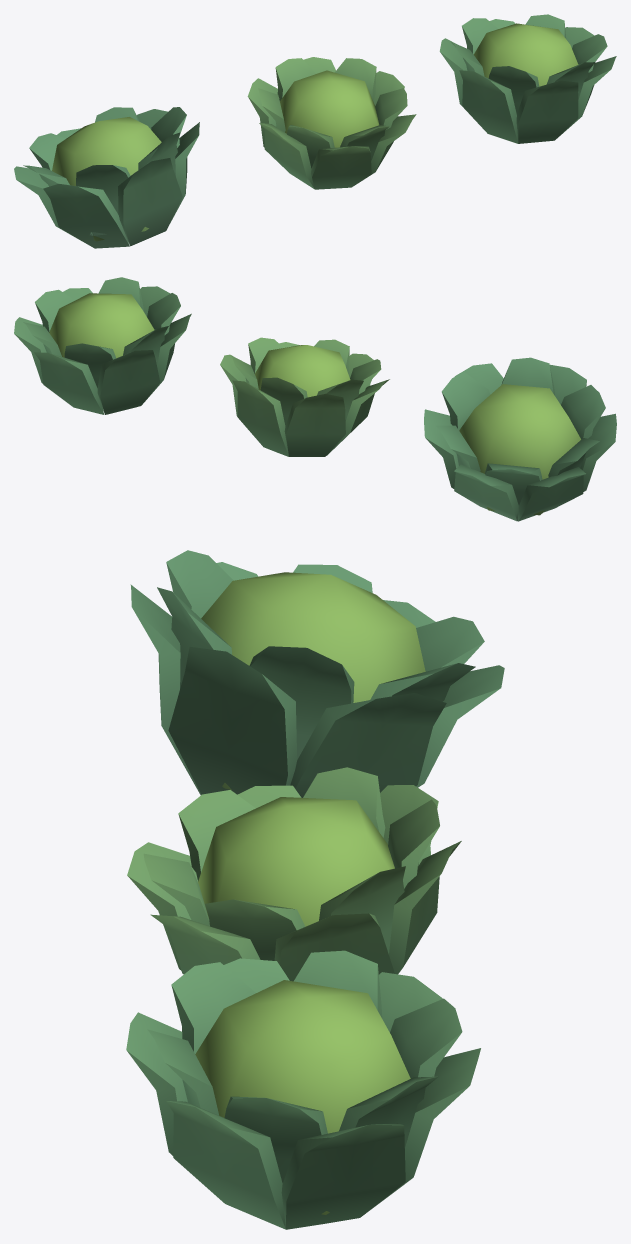
File: FarmCabbage_Line.fbx
3 views of the same model, one above another, from view 1: azimuth 30°, elevation 25°; view 2: azimuth 150°, elevation 25°; view 3: azimuth 270°, elevation 25° (orthographic). The views are drawn at different scales.
Visible parts, largest first — view 1: FarmCabbage_Line; view 2: FarmCabbage_Line; view 3: FarmCabbage_Line.
Part boxes in pixels (<box>): FarmCabbage_Line: <box>14,14,616,248</box>; FarmCabbage_Line: <box>14,277,616,521</box>; FarmCabbage_Line: <box>126,550,504,1229</box>.
Bounding box in the file's own units: 5.86 × 1.21 × 1.67.
